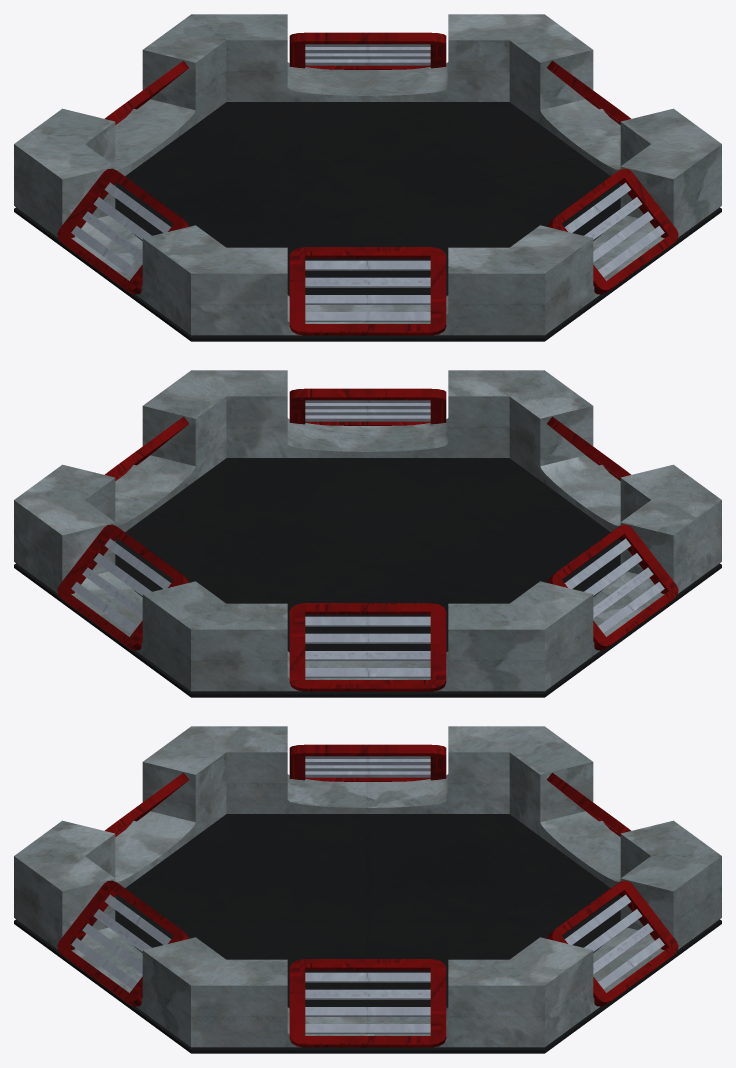
File: TurretBase_v2.fbx
3 renders of one model, top to bottom at view 1: azimuth 30°, elevation 25°; view 2: azimuth 150°, elevation 25°; view 3: azimuth 270°, elevation 25°, orthographic.
Parts seen in each view (by area): view 1: mergedBlocks; view 2: mergedBlocks; view 3: mergedBlocks.
Boxes of the visible parts, x1=… form: mergedBlocks: x1=14, y1=14, x2=721, y2=341; mergedBlocks: x1=14, y1=370, x2=721, y2=697; mergedBlocks: x1=14, y1=726, x2=721, y2=1053.
Bounding box in the file's own units: 4.67 × 0.5834 × 5.2.
